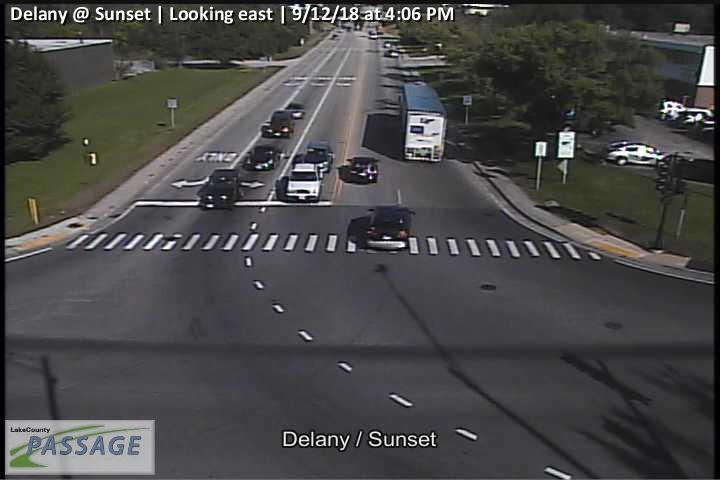SUV: (197, 168, 244, 210), (284, 160, 322, 200)
Sedan: (364, 202, 417, 250), (602, 139, 666, 166), (345, 155, 380, 184), (243, 144, 279, 171), (303, 142, 334, 172), (263, 110, 295, 138), (285, 102, 306, 118)
Truck: (398, 82, 447, 161)
